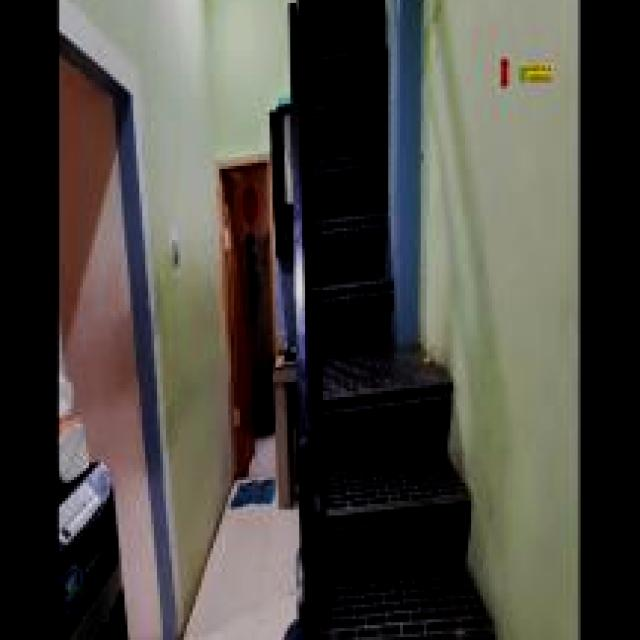upstair: (324, 368, 493, 640)
